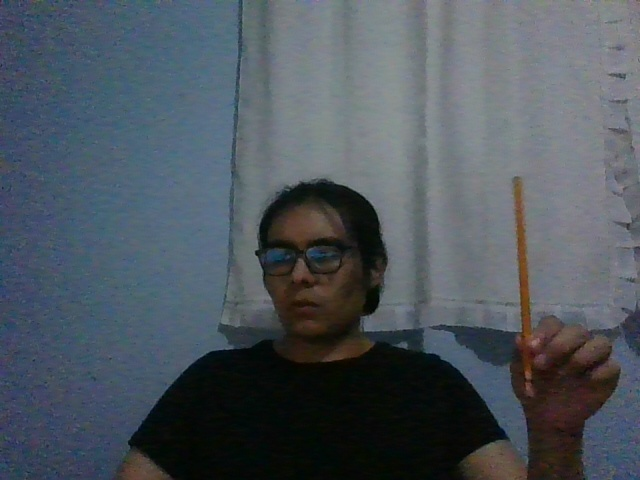lapiz: (511, 176, 535, 399)
